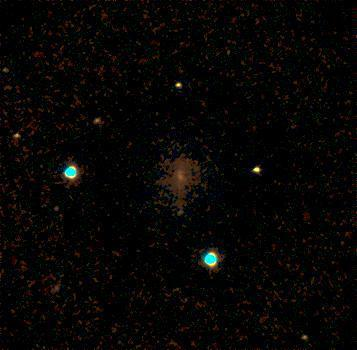star: (289, 323, 319, 350)
